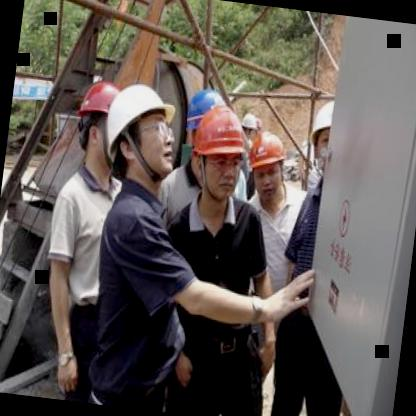helmet: (88, 73, 172, 184), (186, 98, 253, 202), (66, 72, 124, 171), (244, 126, 294, 208), (306, 97, 336, 167)
